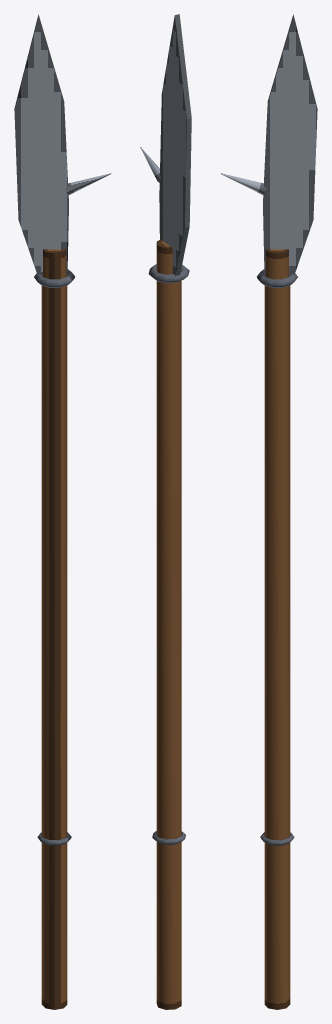
File: glaive.glb
The picture shows the model from 3 angles, left to right: view 1: azimuth 90°, elevation 25°; view 2: azimuth 210°, elevation 25°; view 3: azimuth 270°, elevation 25°; orthographic projection.
Visible parts, largest first — view 1: glaive; view 2: glaive; view 3: glaive.
Part boxes in pixels (x1,y1,x2,y2): glaive: (14,14,111,1009); glaive: (140,14,191,1009); glaive: (220,14,317,1009).
Size of the model in its own units: 0.0495 by 1.36 by 0.1209.
Materials: 1 (1 with a texture image).
